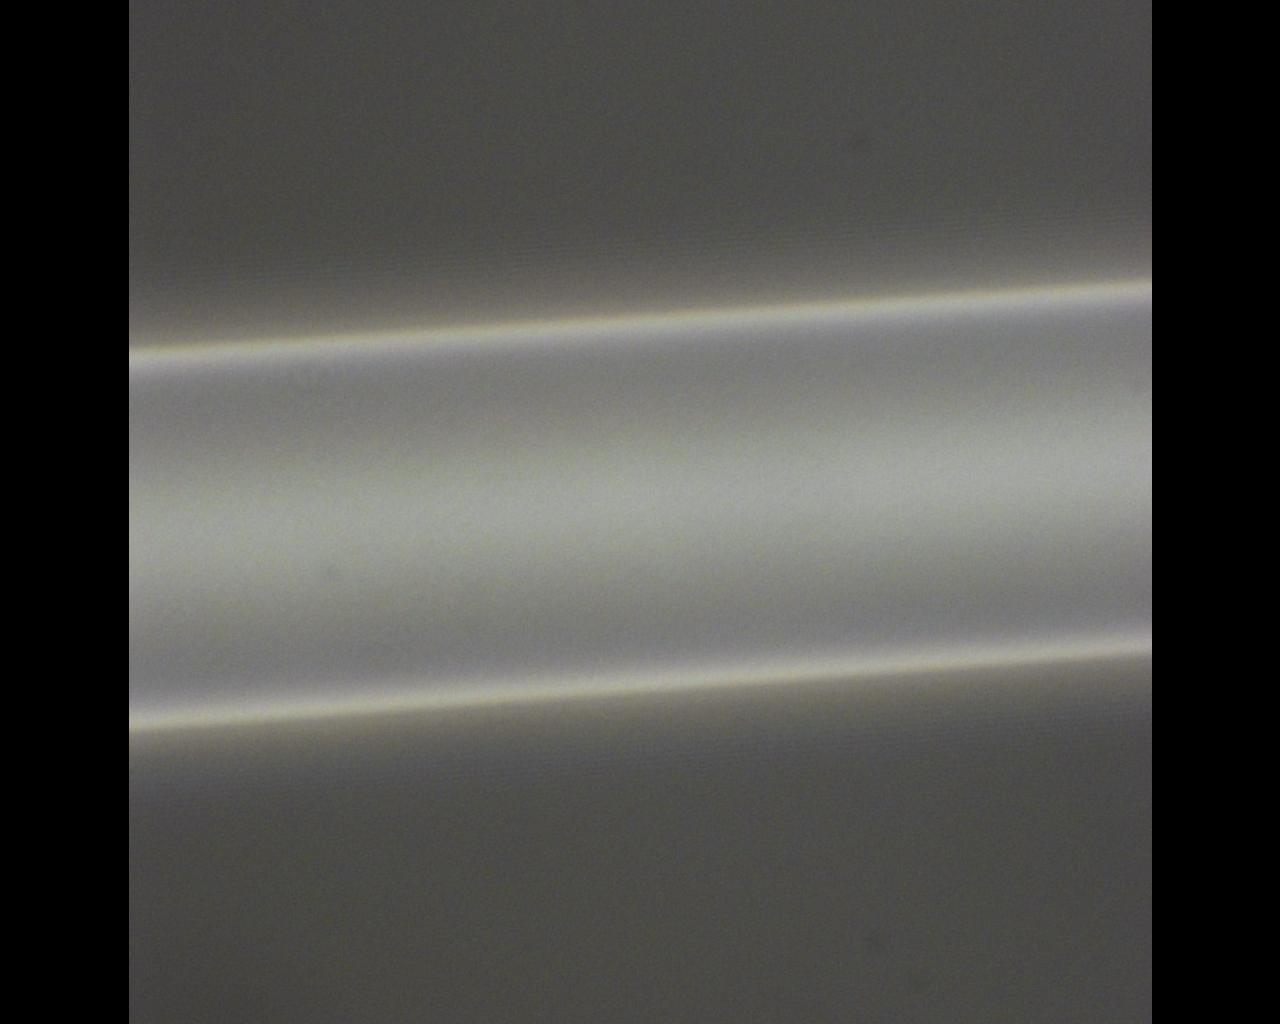fiber: (128, 273, 1152, 736)
